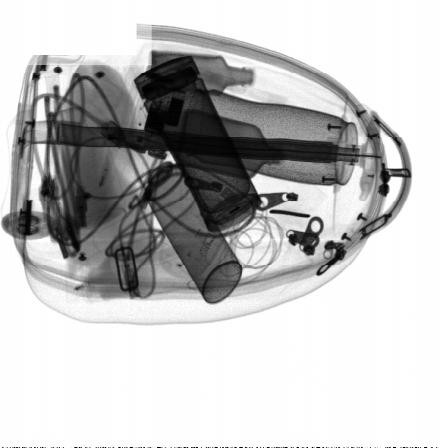Sprayer: (133, 144, 243, 305)
